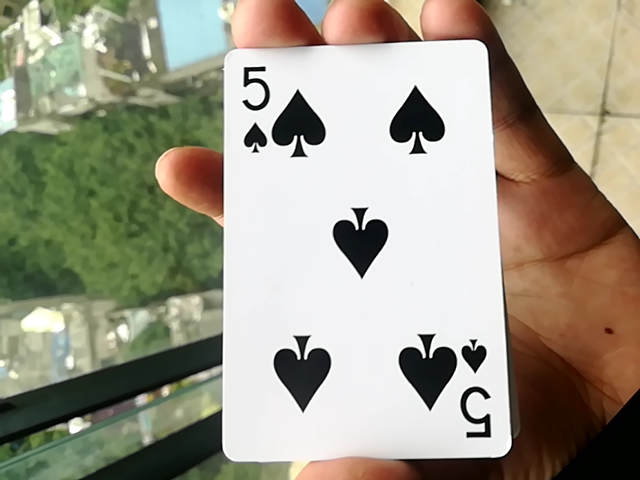ht 5: (209, 27, 514, 462)
